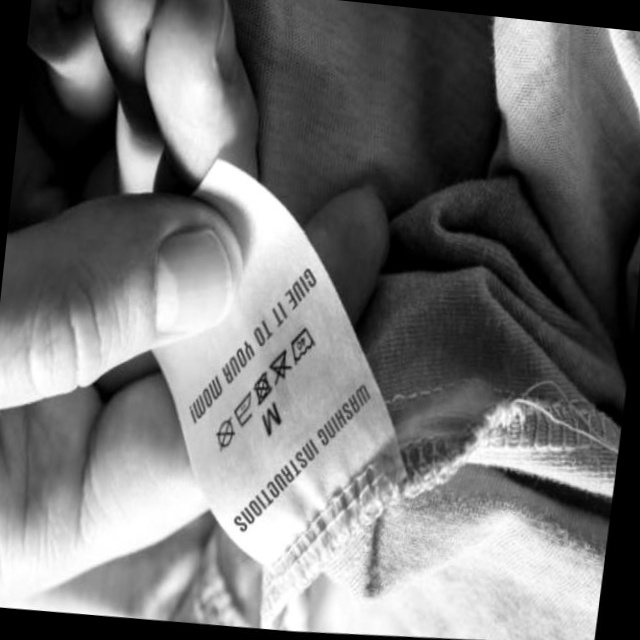40C: (288, 325, 321, 367)
DN_bleach: (268, 349, 293, 385)
DN_dry_clean: (213, 417, 238, 453)
DN_tumble_dry: (252, 373, 276, 407)
iron_medium: (233, 391, 257, 428)
